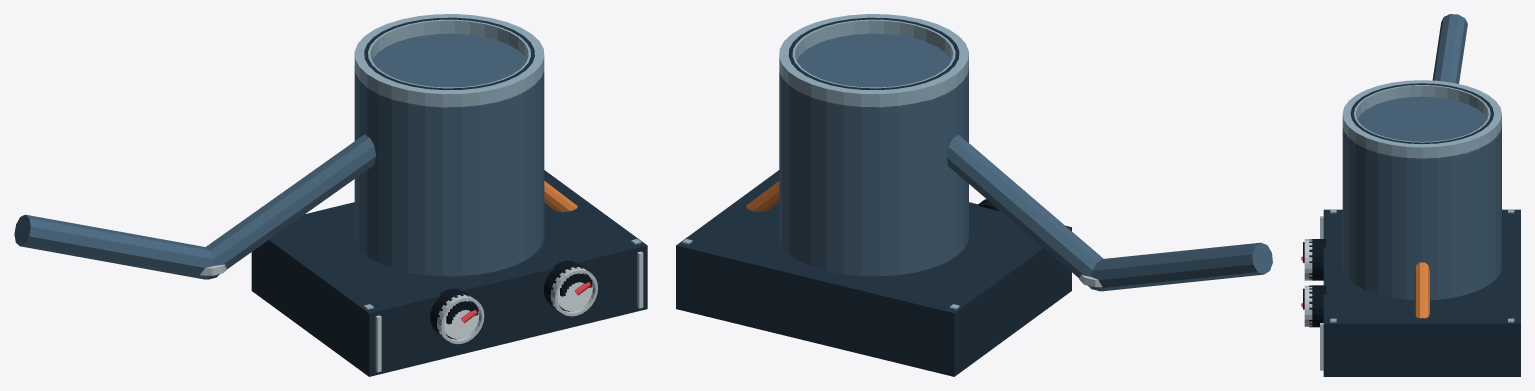
File: 38_L73_WasteSlurryCollectionModule.fbx
The picture shows the model from 3 angles, left to right: view 1: azimuth 30°, elevation 25°; view 2: azimuth 150°, elevation 25°; view 3: azimuth 270°, elevation 25°; orthographic projection. The views are drawn at different scales.
Parts seen in each view (by area): view 1: WasteSlurryCollectionModule; view 2: WasteSlurryCollectionModule; view 3: WasteSlurryCollectionModule.
Part boxes in pixels (box(x1,y1,x2,y2)): WasteSlurryCollectionModule: box(14, 14, 647, 376); WasteSlurryCollectionModule: box(676, 14, 1272, 376); WasteSlurryCollectionModule: box(1301, 14, 1520, 376).
Size of the model in its own units: 282 by 120 by 116.
